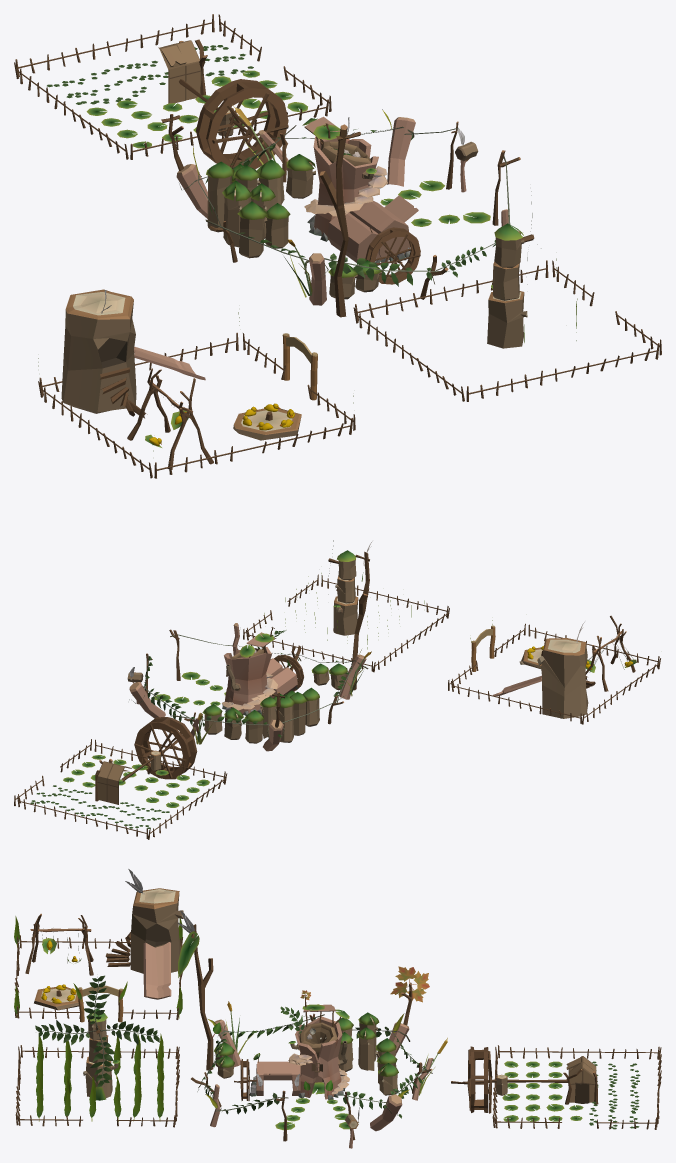
3 renders of one model, top to bottom at view 1: azimuth 30°, elevation 25°; view 2: azimuth 150°, elevation 25°; view 3: azimuth 270°, elevation 25°, orthographic. The views are drawn at different scales.
Parts seen in each view (by area): view 1: nestStage_19.014, watermill.003, duckscarousel, watermillHouse.005; view 2: nestStage_19.014, watermill.003; view 3: nestStage_19.014, windmill.004, watermill.003, duckscarousel, nestStageWindmill_11.003.
Boxes of the visible parts, bbox=[...] form: nestStage_19.014: bbox=[14, 14, 661, 478]; watermill.003: bbox=[179, 79, 288, 169]; duckscarousel: bbox=[233, 403, 301, 440]; watermillHouse.005: bbox=[365, 227, 420, 284]; nestStage_19.014: bbox=[14, 541, 660, 839]; watermill.003: bbox=[120, 717, 197, 782]; nestStage_19.014: bbox=[14, 869, 661, 1148]; windmill.004: bbox=[35, 975, 159, 1087]; watermill.003: bbox=[451, 1046, 567, 1113]; duckscarousel: bbox=[34, 984, 83, 1010]; nestStageWindmill_11.003: bbox=[390, 966, 429, 1002].
Size of the model in its own units: 12.22 by 4.76 by 17.14.
